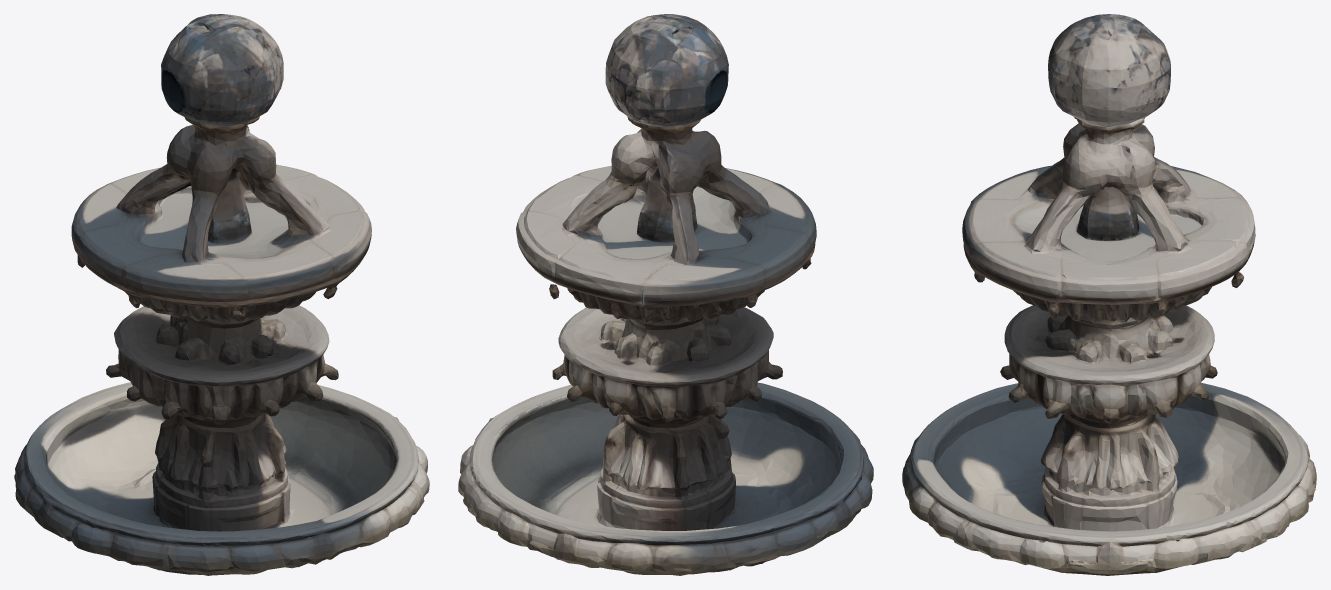
The model's file is courtyard_fountain.glb.
3 views of the same model, side by side, from view 1: azimuth 30°, elevation 25°; view 2: azimuth 150°, elevation 25°; view 3: azimuth 270°, elevation 25° (orthographic).
Parts seen in each view (by area): view 1: world; view 2: world; view 3: world.
Part boxes in pixels (bbox=[...]): world: bbox=[14, 14, 429, 575]; world: bbox=[458, 14, 873, 575]; world: bbox=[902, 14, 1316, 575].
Size of the model in its own units: 2.24 by 3 by 2.24.
1 material, 1 textured.
